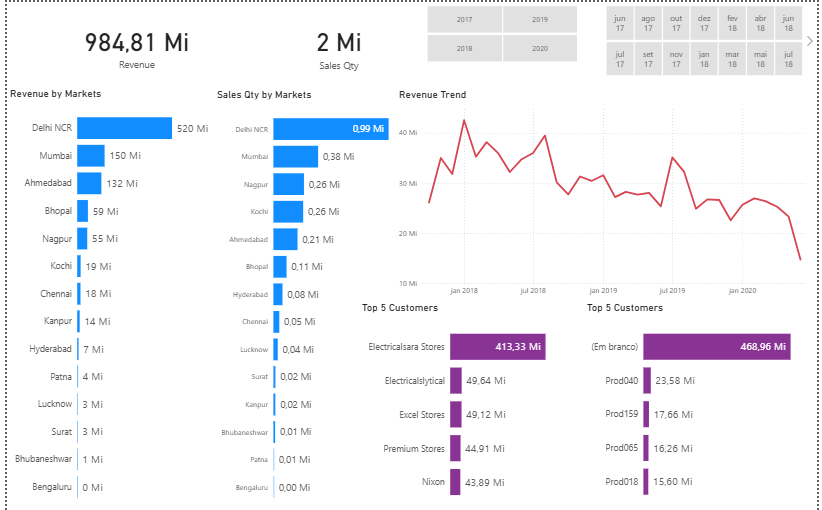

The page's visual inventory and layout, read from the dashboard file:
{"tool":"powerbi","page":{"name":"Página 1","canvas":[1350,850],"ordinal":0},"visuals":[{"type":"card","fields":{"Values":["BaseMeasures.Revenue"]},"box":[0,1.8,432.3,141.7],"z":0},{"type":"card","fields":{"Values":["BaseMeasures.Sales Qty"]},"box":[432.3,3.5,242.7,140],"z":1},{"type":"barChart","title":"Revenue by Markets","fields":{"Y":["BaseMeasures.Revenue"],"Category":["sales markets.markets_name"]},"box":[0,141.7,421.7,708.7],"z":2},{"type":"barChart","title":"Sales Qty by Markets","fields":{"Y":["BaseMeasures.Sales Qty"],"Category":["sales markets.markets_name"]},"box":[345.1,142.8,329.8,707.2],"z":3},{"type":"slicer","fields":{"Values":["sales date.cy_date"]},"box":[974.1,0,375.7,129.2],"z":4},{"type":"slicer","fields":{"Values":["sales date.year"]},"box":[675,0,299.4,106.3],"z":5},{"type":"barChart","title":"Top 5 Customers","fields":{"Y":["BaseMeasures.Revenue"],"Category":["sales customers.custmer_name"]},"box":[586.4,497.8,388,352.6],"z":6},{"type":"barChart","title":"Top 5 Customers","fields":{"Y":["BaseMeasures.Revenue"],"Category":["sales products.product_code"]},"box":[962.2,498.1,387.6,351.9],"z":7},{"type":"lineChart","title":"Revenue Trend","fields":{"Y":["BaseMeasures.Revenue"],"Category":["sales date.cy_date"]},"box":[647.7,142.8,702.1,355.3],"z":8}]}

Visuals, with their boxes in screenshot pixels (x1, y1, x2, y2), scaled from the page's 1350x850 canvas onto the 822x510 screenshot:
card - BaseMeasures.Revenue: [0,1,263,86]
card - BaseMeasures.Sales Qty: [263,2,411,86]
"Revenue by Markets" barChart: [0,85,257,509]
"Sales Qty by Markets" barChart: [210,86,411,509]
slicer - sales date.cy_date: [593,0,821,78]
slicer - sales date.year: [411,0,593,64]
"Top 5 Customers" barChart: [357,299,593,509]
"Top 5 Customers" barChart: [586,299,821,509]
"Revenue Trend" lineChart: [394,86,821,299]
